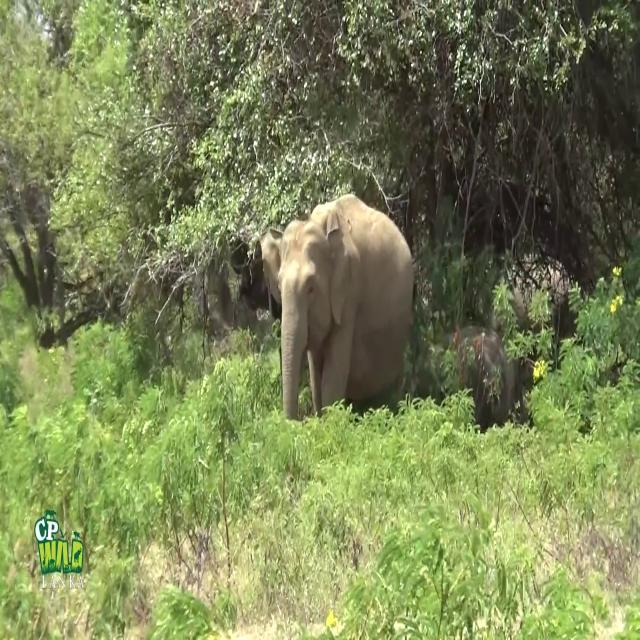Elephant: (260, 192, 414, 420)
